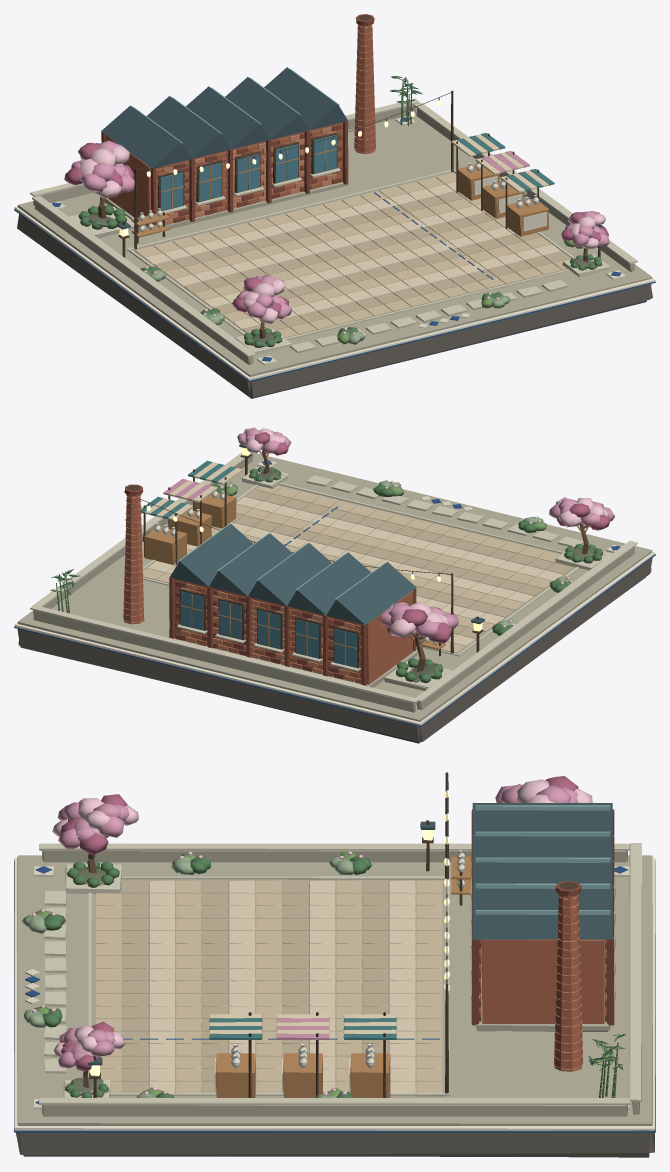
Rendered from taoxichuan.glb.
3 renders of one model, top to bottom at view 1: azimuth 30°, elevation 25°; view 2: azimuth 150°, elevation 25°; view 3: azimuth 270°, elevation 25°, orthographic. The views are drawn at different scales.
Visible parts, largest first — view 1: Garden ground, Individual courtyard flagstone, Sawtooth factory roof, Individual courtyard flagstone.002, Individual courtyard flagstone.001, 20 × 20 square island, Courtyard border, Historic brick factory, Blue reflected glazing, Handmade facade brick.002, Porcelain perimeter band, Window central mullion (+12 smaller); view 2: Garden ground, Sawtooth factory roof, Courtyard border, 20 × 20 square island, Individual courtyard flagstone, Individual courtyard flagstone.002, Historic brick factory, Individual courtyard flagstone.001, Handmade facade brick.002, Blue reflected glazing, Window central mullion, Porcelain perimeter band (+12 smaller); view 3: Garden ground, Individual courtyard flagstone, Individual courtyard flagstone.001, Courtyard border, Individual courtyard flagstone.002, Sawtooth factory roof, 20 × 20 square island, Historic brick factory, Porcelain perimeter band, Window central mullion, Striped linen awning.007, Sawtooth glazed clerestory (+15 smaller).
Boxes of the visible parts, x1,y1,x2,y2 form: Garden ground: (17, 104, 652, 376); Individual courtyard flagstone: (135, 172, 570, 337); Sawtooth factory roof: (101, 67, 604, 229); Individual courtyard flagstone.002: (154, 191, 570, 333); Individual courtyard flagstone.001: (144, 181, 560, 329); 20 × 20 square island: (17, 214, 652, 397); Courtyard border: (30, 98, 637, 357); Historic brick factory: (104, 24, 375, 226); Blue reflected glazing: (160, 135, 336, 210); Handmade facade brick.002: (101, 14, 374, 225); Porcelain perimeter band: (14, 162, 655, 380); Window central mullion: (131, 137, 548, 237); Garden ground: (17, 453, 652, 721); Sawtooth factory roof: (170, 444, 484, 625); Courtyard border: (30, 452, 637, 703); 20 × 20 square island: (17, 556, 652, 741); Individual courtyard flagstone: (142, 485, 574, 653); Individual courtyard flagstone.002: (160, 489, 573, 638); Historic brick factory: (123, 495, 413, 684); Individual courtyard flagstone.001: (147, 496, 563, 646); Handmade facade brick.002: (124, 484, 416, 685); Blue reflected glazing: (181, 591, 357, 667); Window central mullion: (144, 492, 445, 665); Porcelain perimeter band: (14, 489, 655, 725); Garden ground: (17, 850, 652, 1125); Individual courtyard flagstone: (96, 880, 442, 1093); Individual courtyard flagstone.001: (149, 880, 415, 1093); Courtyard border: (39, 843, 641, 1104); Individual courtyard flagstone.002: (122, 880, 388, 1092); Sawtooth factory roof: (87, 803, 612, 1065); 20 × 20 square island: (16, 1130, 654, 1157); Historic brick factory: (481, 895, 604, 1071); Porcelain perimeter band: (14, 850, 655, 1130); Window central mullion: (215, 856, 471, 1097); Striped linen awning.007: (57, 784, 578, 1068); Sawtooth glazed clerestory: (475, 805, 610, 914).
Bounding box in the file's own units: 20.06 × 7.48 × 20.06.
